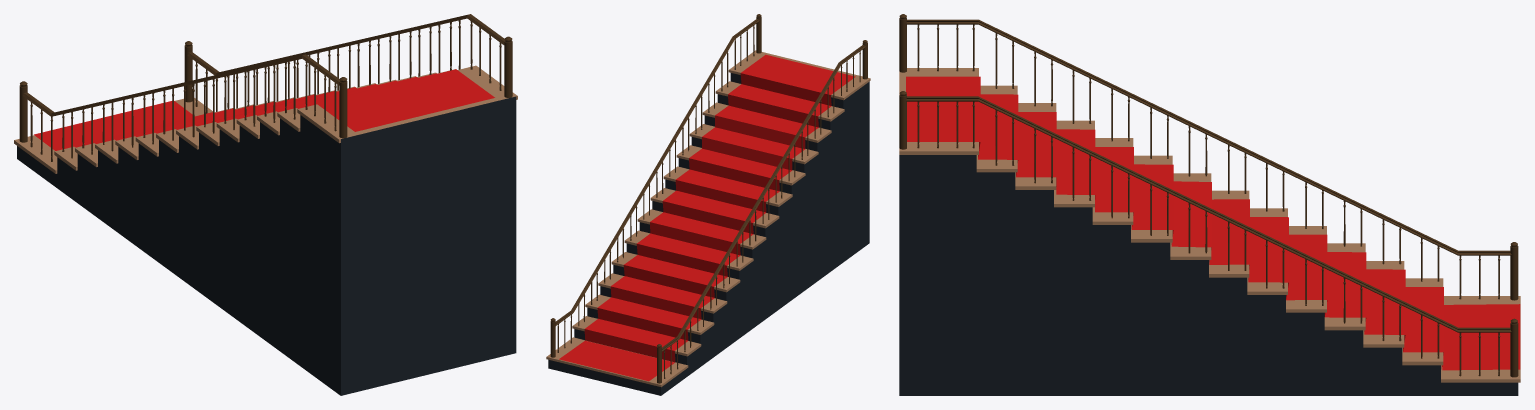
The model's file is level.fbx.
The picture shows the model from 3 angles, left to right: view 1: azimuth 30°, elevation 25°; view 2: azimuth 150°, elevation 25°; view 3: azimuth 270°, elevation 25°; orthographic projection. The views are drawn at different scales.
Parts seen in each view (by area): view 1: Stairs, Mangila, Carpet; view 2: Carpet, Stairs, Mangila; view 3: Stairs, Carpet, Mangila.
Boxes of the visible parts, x1=… form: Stairs: x1=14, y1=65, x2=517, y2=395; Mangila: x1=19, y1=14, x2=512, y2=161; Carpet: x1=34, y1=69, x2=494, y2=150; Carpet: x1=559, y1=54, x2=855, y2=381; Stairs: x1=546, y1=50, x2=870, y2=395; Mangila: x1=550, y1=14, x2=867, y2=383; Stairs: x1=899, y1=68, x2=1520, y2=395; Carpet: x1=906, y1=76, x2=1520, y2=370; Mangila: x1=899, y1=14, x2=1518, y2=377.
Bounding box in the file's own units: 565 × 954 × 1780.
